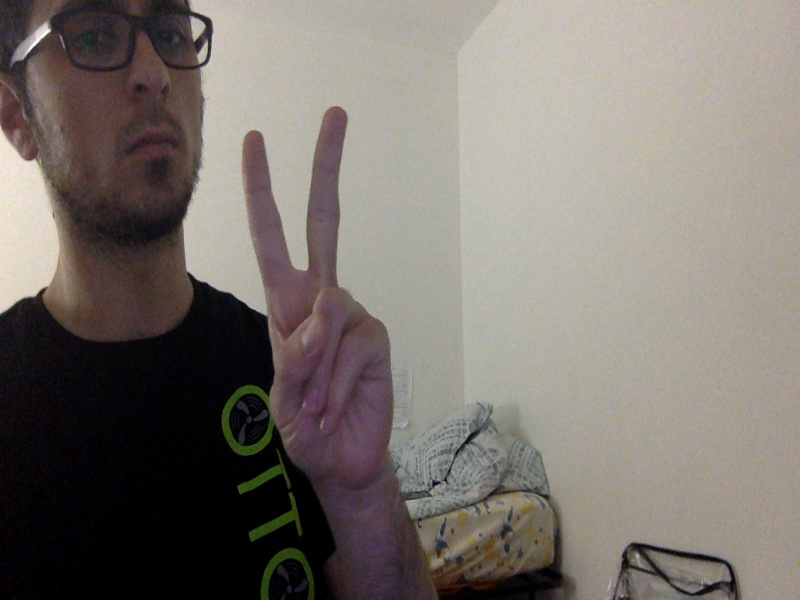2-hand: (239, 106, 400, 486)
